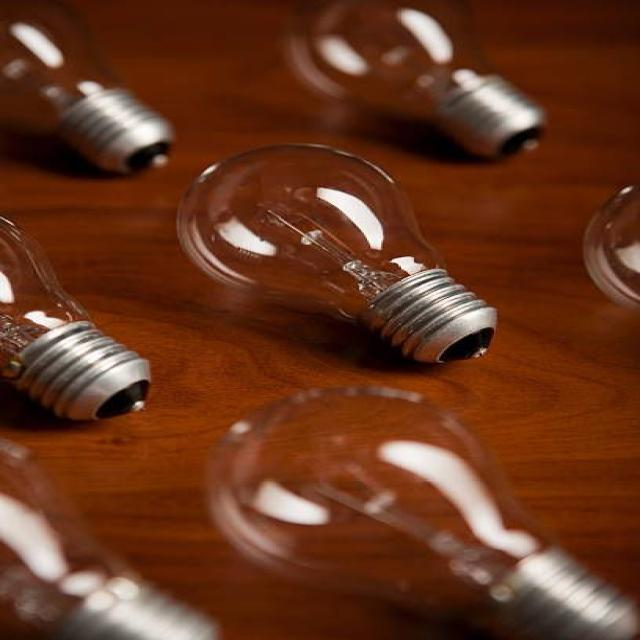electronic: (204, 383, 637, 639), (174, 141, 499, 364), (0, 435, 220, 639), (279, 0, 546, 160), (0, 214, 152, 422), (0, 0, 174, 175), (580, 182, 638, 310)
